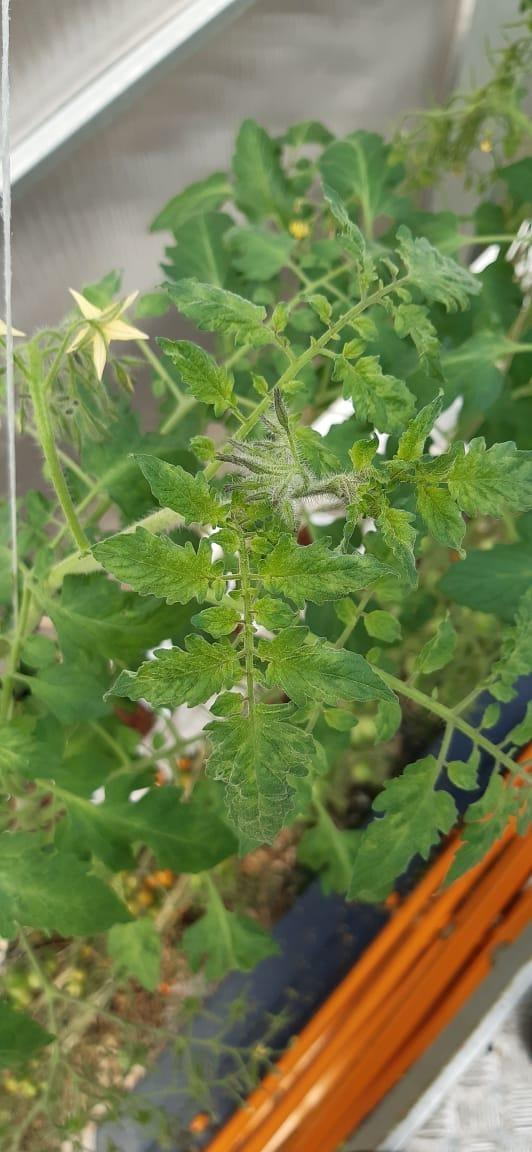Rugose Flower: (68, 290, 147, 380)
Rugose leaf: (207, 704, 315, 844), (256, 628, 396, 705), (92, 526, 225, 603), (110, 634, 243, 706), (259, 536, 392, 604), (447, 438, 531, 521), (170, 280, 270, 348), (158, 338, 241, 417), (399, 232, 480, 311), (135, 456, 227, 523), (341, 356, 415, 432), (416, 475, 465, 546), (376, 504, 416, 585), (394, 397, 439, 461)
Rugose stem: (238, 276, 406, 442), (220, 396, 358, 520), (239, 539, 254, 728)
